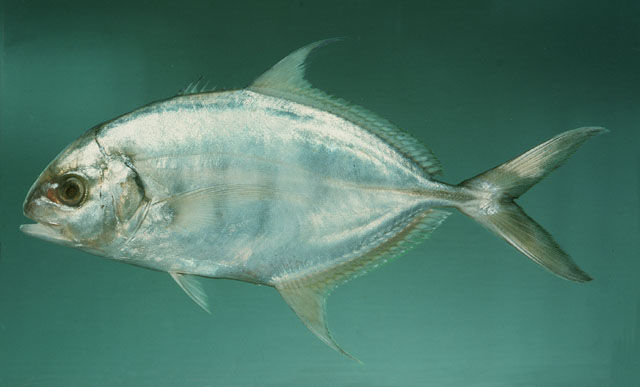fish: (18, 36, 610, 366)
